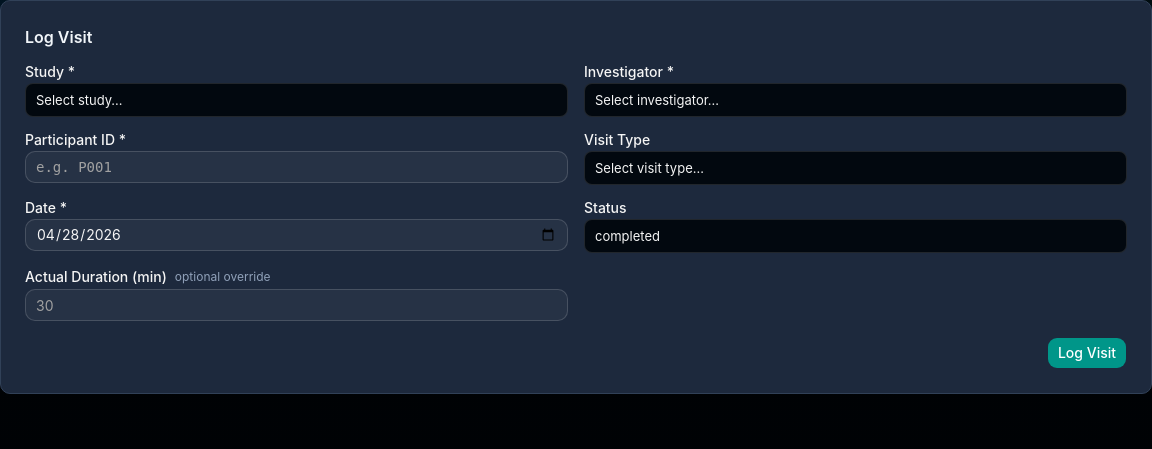
Test: VisitLogForm › shows validation error when participant ID is missing
The image size is (1152, 449).
Click the button "Log Visit" at [1087, 353], box [1047, 337, 1127, 369]
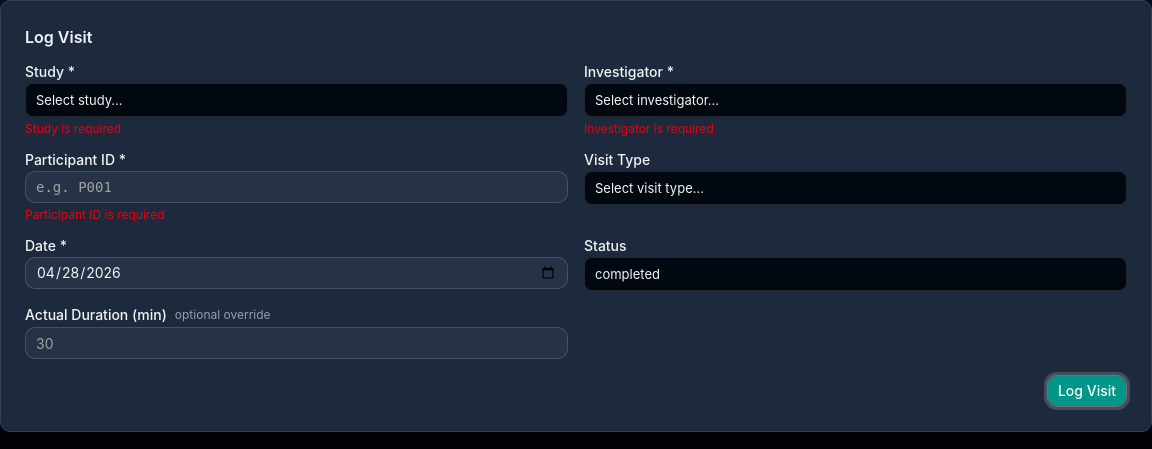
Now the text "Participant ID is required" is shown, box [25, 207, 164, 222]
